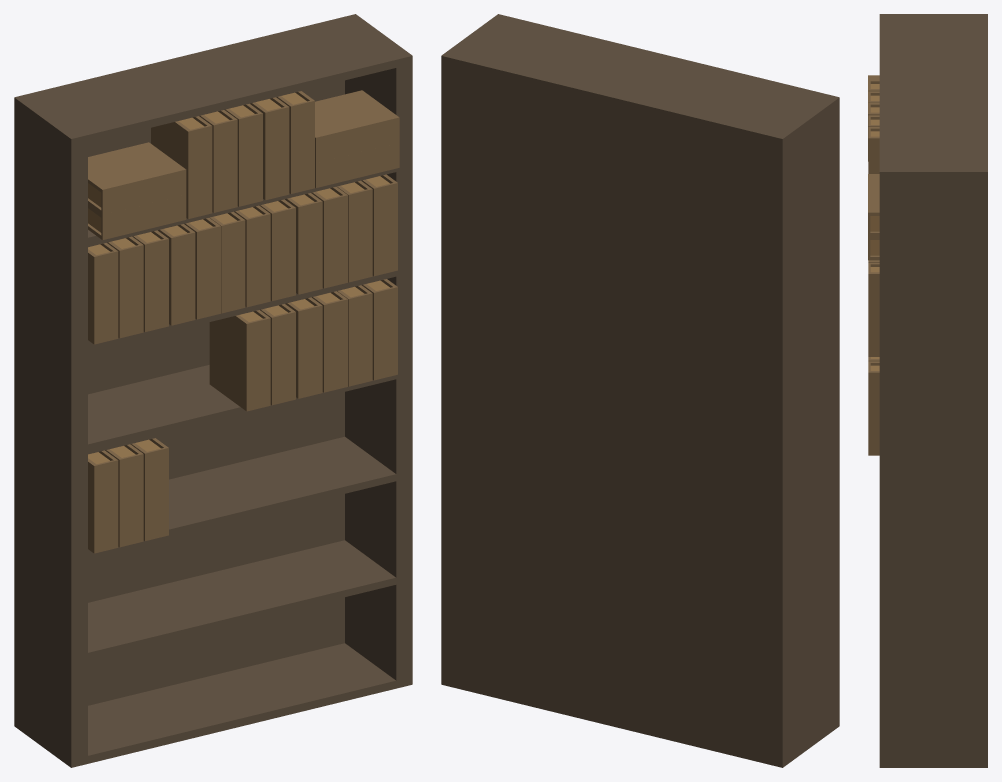
File: BookCasePrototype.fbx
The picture shows the model from 3 angles, left to right: view 1: azimuth 30°, elevation 25°; view 2: azimuth 150°, elevation 25°; view 3: azimuth 270°, elevation 25°; orthographic projection. The views are drawn at different scales.
Parts seen in each view (by area): view 1: Bookcase, BookType2_56, BookType2_38, BookType2_31, BookType2_25, BookType2_60, BookType2_40, BookType2_35, BookType2_43, BookType2_48, BookType2_55, BookType2_59 (+19 smaller); view 2: Bookcase; view 3: Bookcase, BookType2_52, BookType2_51, BookType2_31, BookType2_36, BookType2_37.
Part boxes in pixels (x1,y1,x2,y2): Bookcase: (14, 14, 412, 767); BookType2_56: (209, 310, 270, 411); BookType2_38: (88, 142, 186, 214); BookType2_31: (315, 90, 399, 162); BookType2_25: (151, 116, 212, 219); BookType2_60: (88, 450, 118, 553); BookType2_40: (88, 243, 118, 344); BookType2_35: (250, 97, 289, 200); BookType2_43: (158, 224, 195, 325); BookType2_48: (285, 193, 322, 294); BookType2_55: (285, 297, 322, 398); BookType2_59: (105, 444, 143, 547); Bookcase: (441, 14, 839, 767); Bookcase: (879, 14, 987, 767); BookType2_52: (868, 361, 879, 455); BookType2_51: (868, 262, 879, 356); BookType2_31: (868, 174, 879, 236); BookType2_36: (868, 127, 879, 173); BookType2_37: (868, 236, 879, 260).
Bounding box in the file's own units: 3.45 × 6.08 × 1.11.
